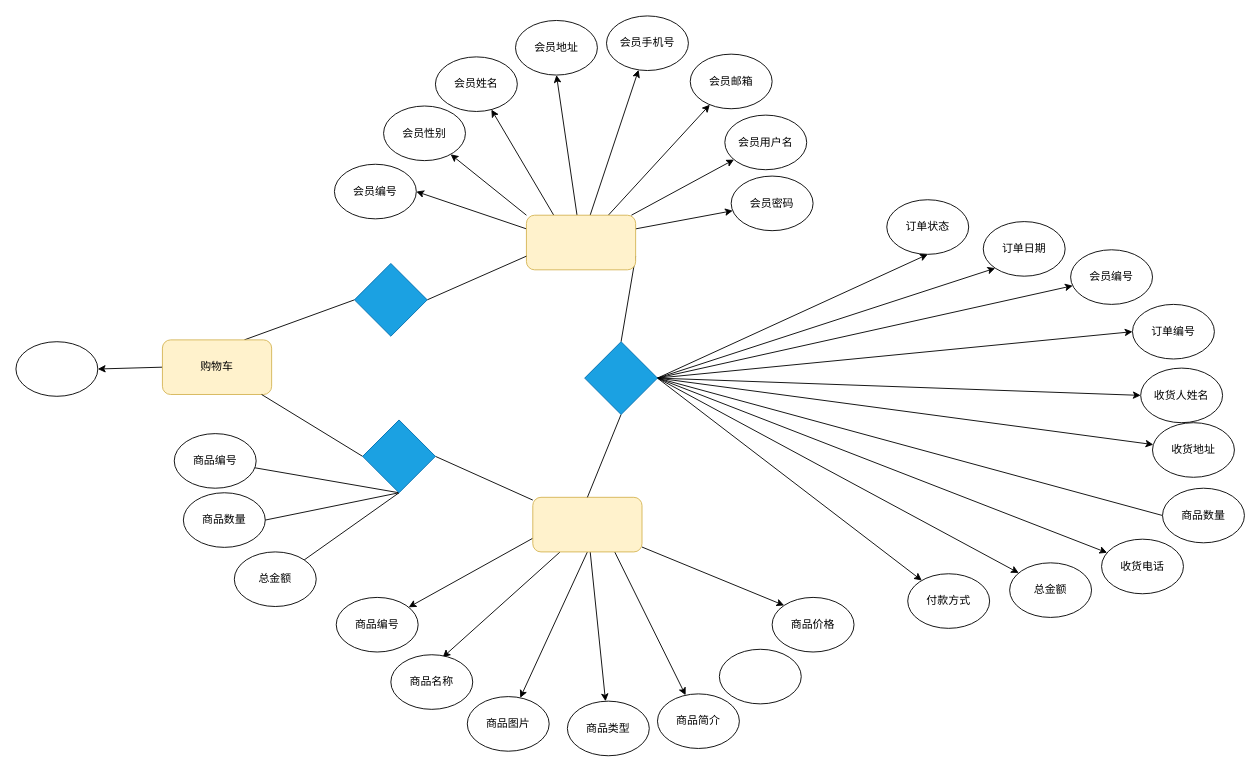
Image size: 1260x772. Some labels were removed from this diagram. The shapes that lost their labels are listed below. From the top down, each one's centre as x and y in pixels, then its label:
At [581,242]: "会员".
At [390,299]: "管理".
At [56,368]: "购物车编号".
At [620,378]: "购买".
At [398,456]: "包含".
At [587,524]: "商品".
At [759,676]: "商品库存".
